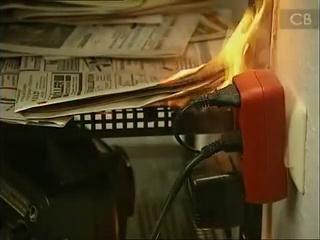Fire: (140, 1, 263, 119)
